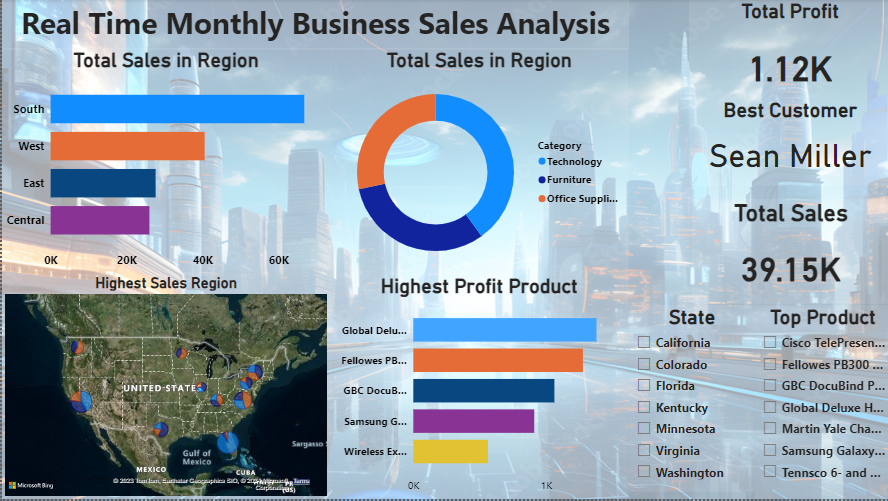

The page's visual inventory and layout, read from the dashboard file:
{"tool":"powerbi","page":{"name":"Sales Analysis","canvas":[1280,720],"ordinal":0},"visuals":[{"type":"map","title":"Highest Sales Region","fields":{"Category":["Monthly analysis edu.State"],"Size":["Monthly analysis edu.Sales"],"Series":["Monthly analysis edu.Category"]},"box":[0,395.7,472.9,324.3],"z":0},{"type":"barChart","title":"Total Sales in Region","fields":{"Category":["Monthly analysis edu.Region"],"Y":["Monthly analysis edu.Sales"]},"box":[0,70,472.9,325.7],"z":1000},{"type":"donutChart","title":"Total Sales in Region","fields":{"Y":["Monthly analysis edu.Sales"],"Category":["Monthly analysis edu.Category"]},"box":[472.9,70,430,325.7],"z":2000},{"type":"barChart","title":"Highest Profit Product","fields":{"Category":["Monthly analysis edu.Product Name"],"Y":["Monthly analysis edu.Profit"]},"box":[472.9,395.7,430,324.3],"z":3000},{"type":"cardVisual","title":"Total Profit","fields":{"Data":["Monthly analysis edu.Profit"]},"box":[988.6,0,291.4,142.9],"z":4000},{"type":"card","title":"Best Customer","fields":{"Values":["Monthly analysis edu.Customer Name"]},"box":[988.6,142.9,291.4,125.7],"z":5000},{"type":"slicer","title":"State","fields":{"Values":["Monthly analysis edu.State"]},"box":[902.9,440,181.4,268.6],"z":6000},{"type":"slicer","title":"Top Product","fields":{"Values":["Monthly analysis edu.Product Name"]},"box":[1084.3,440,195.7,280],"z":7000},{"type":"textbox","box":[0,0,902.9,72.9],"z":8000},{"type":"cardVisual","title":"Total Sales","fields":{"Data":["Monthly analysis edu.Sales"]},"box":[994.3,288.6,285.7,151.4],"z":9000}]}

Visuals, with their boxes in screenshot pixels (x1, y1, x2, y2), scaled from the page's 1280x720 canvas onto the 888x501 screenshot:
"Highest Sales Region" map: 0, 275, 328, 500
"Total Sales in Region" barChart: 0, 49, 328, 275
"Total Sales in Region" donutChart: 328, 49, 626, 275
"Highest Profit Product" barChart: 328, 275, 626, 500
"Total Profit" cardVisual: 686, 0, 887, 99
"Best Customer" card: 686, 99, 887, 187
"State" slicer: 626, 306, 752, 493
"Top Product" slicer: 752, 306, 887, 500
textbox: 0, 0, 626, 51
"Total Sales" cardVisual: 690, 201, 887, 306
